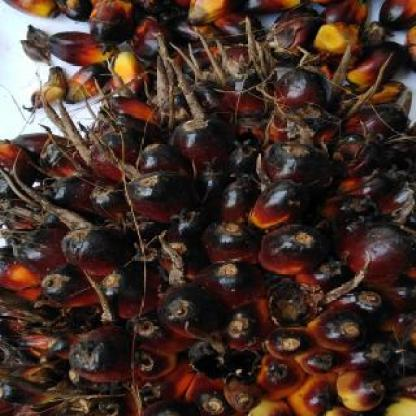Unripe: (0, 99, 416, 416)
